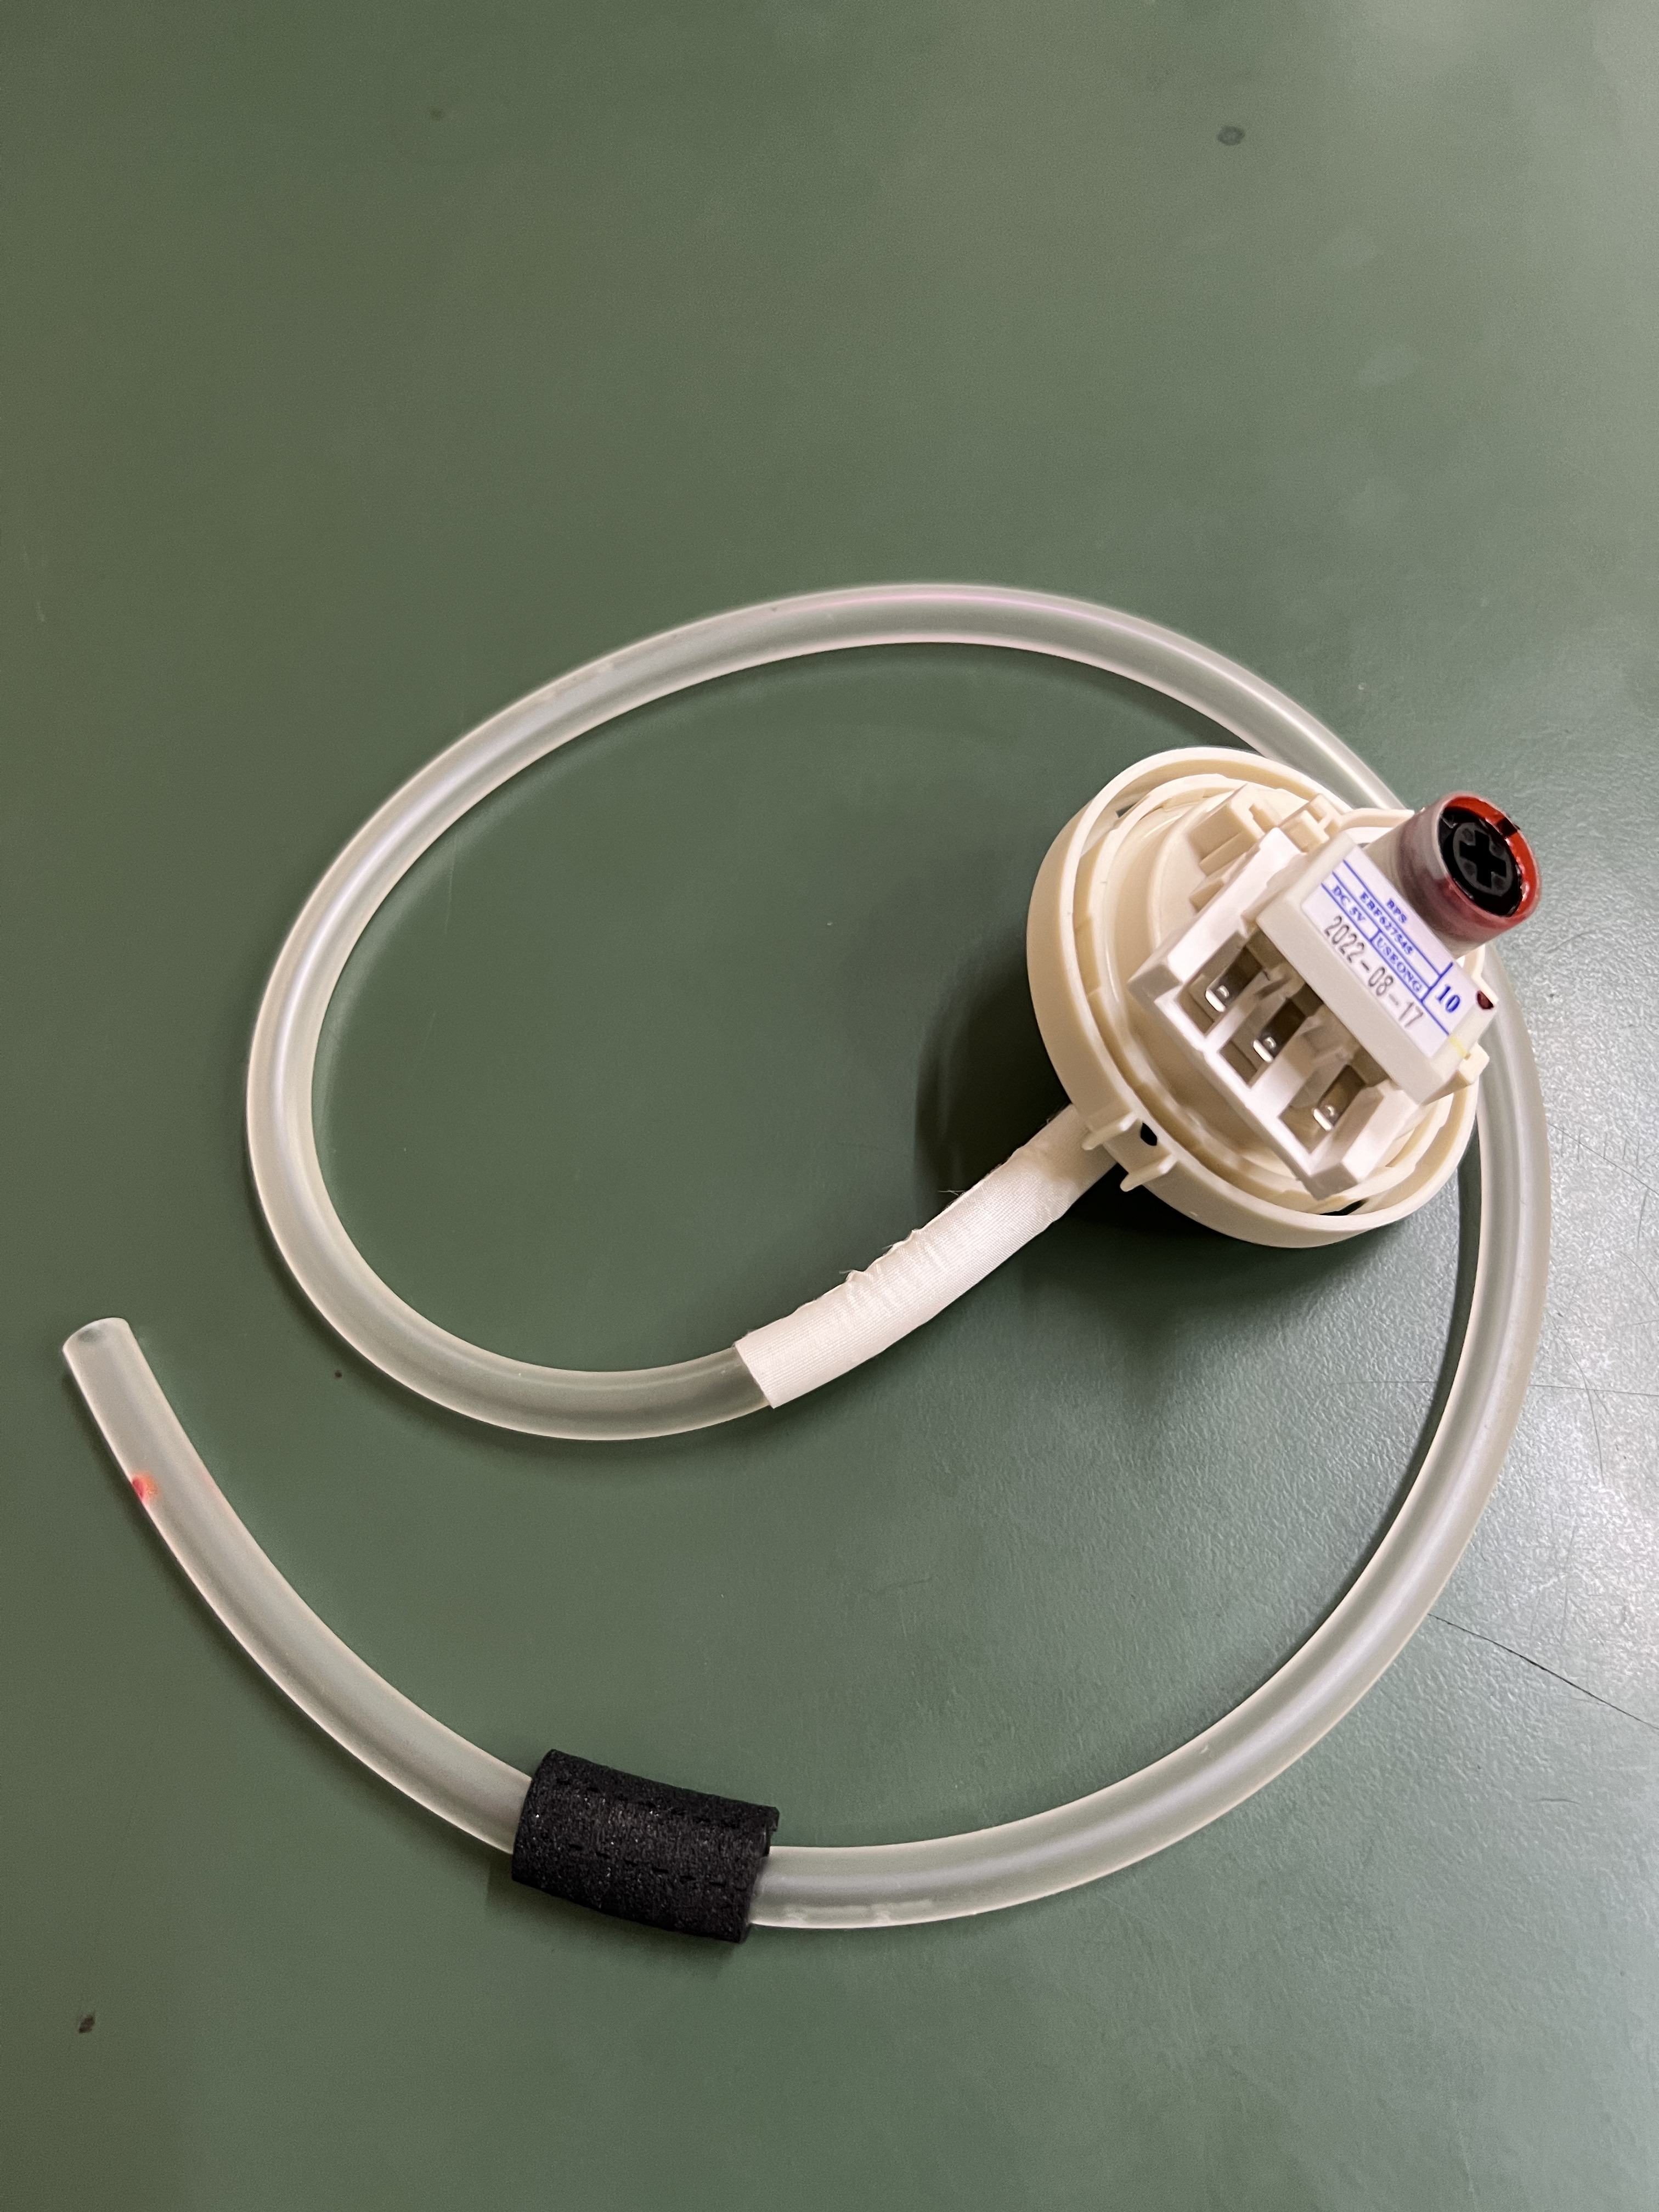pressure_sensor: (994, 738, 1525, 1277)
